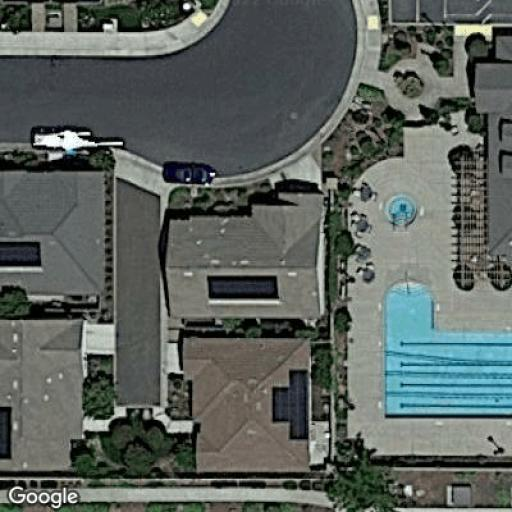solar-panel: (270, 368, 311, 441), (206, 272, 280, 304), (0, 240, 44, 272), (0, 404, 16, 462)
